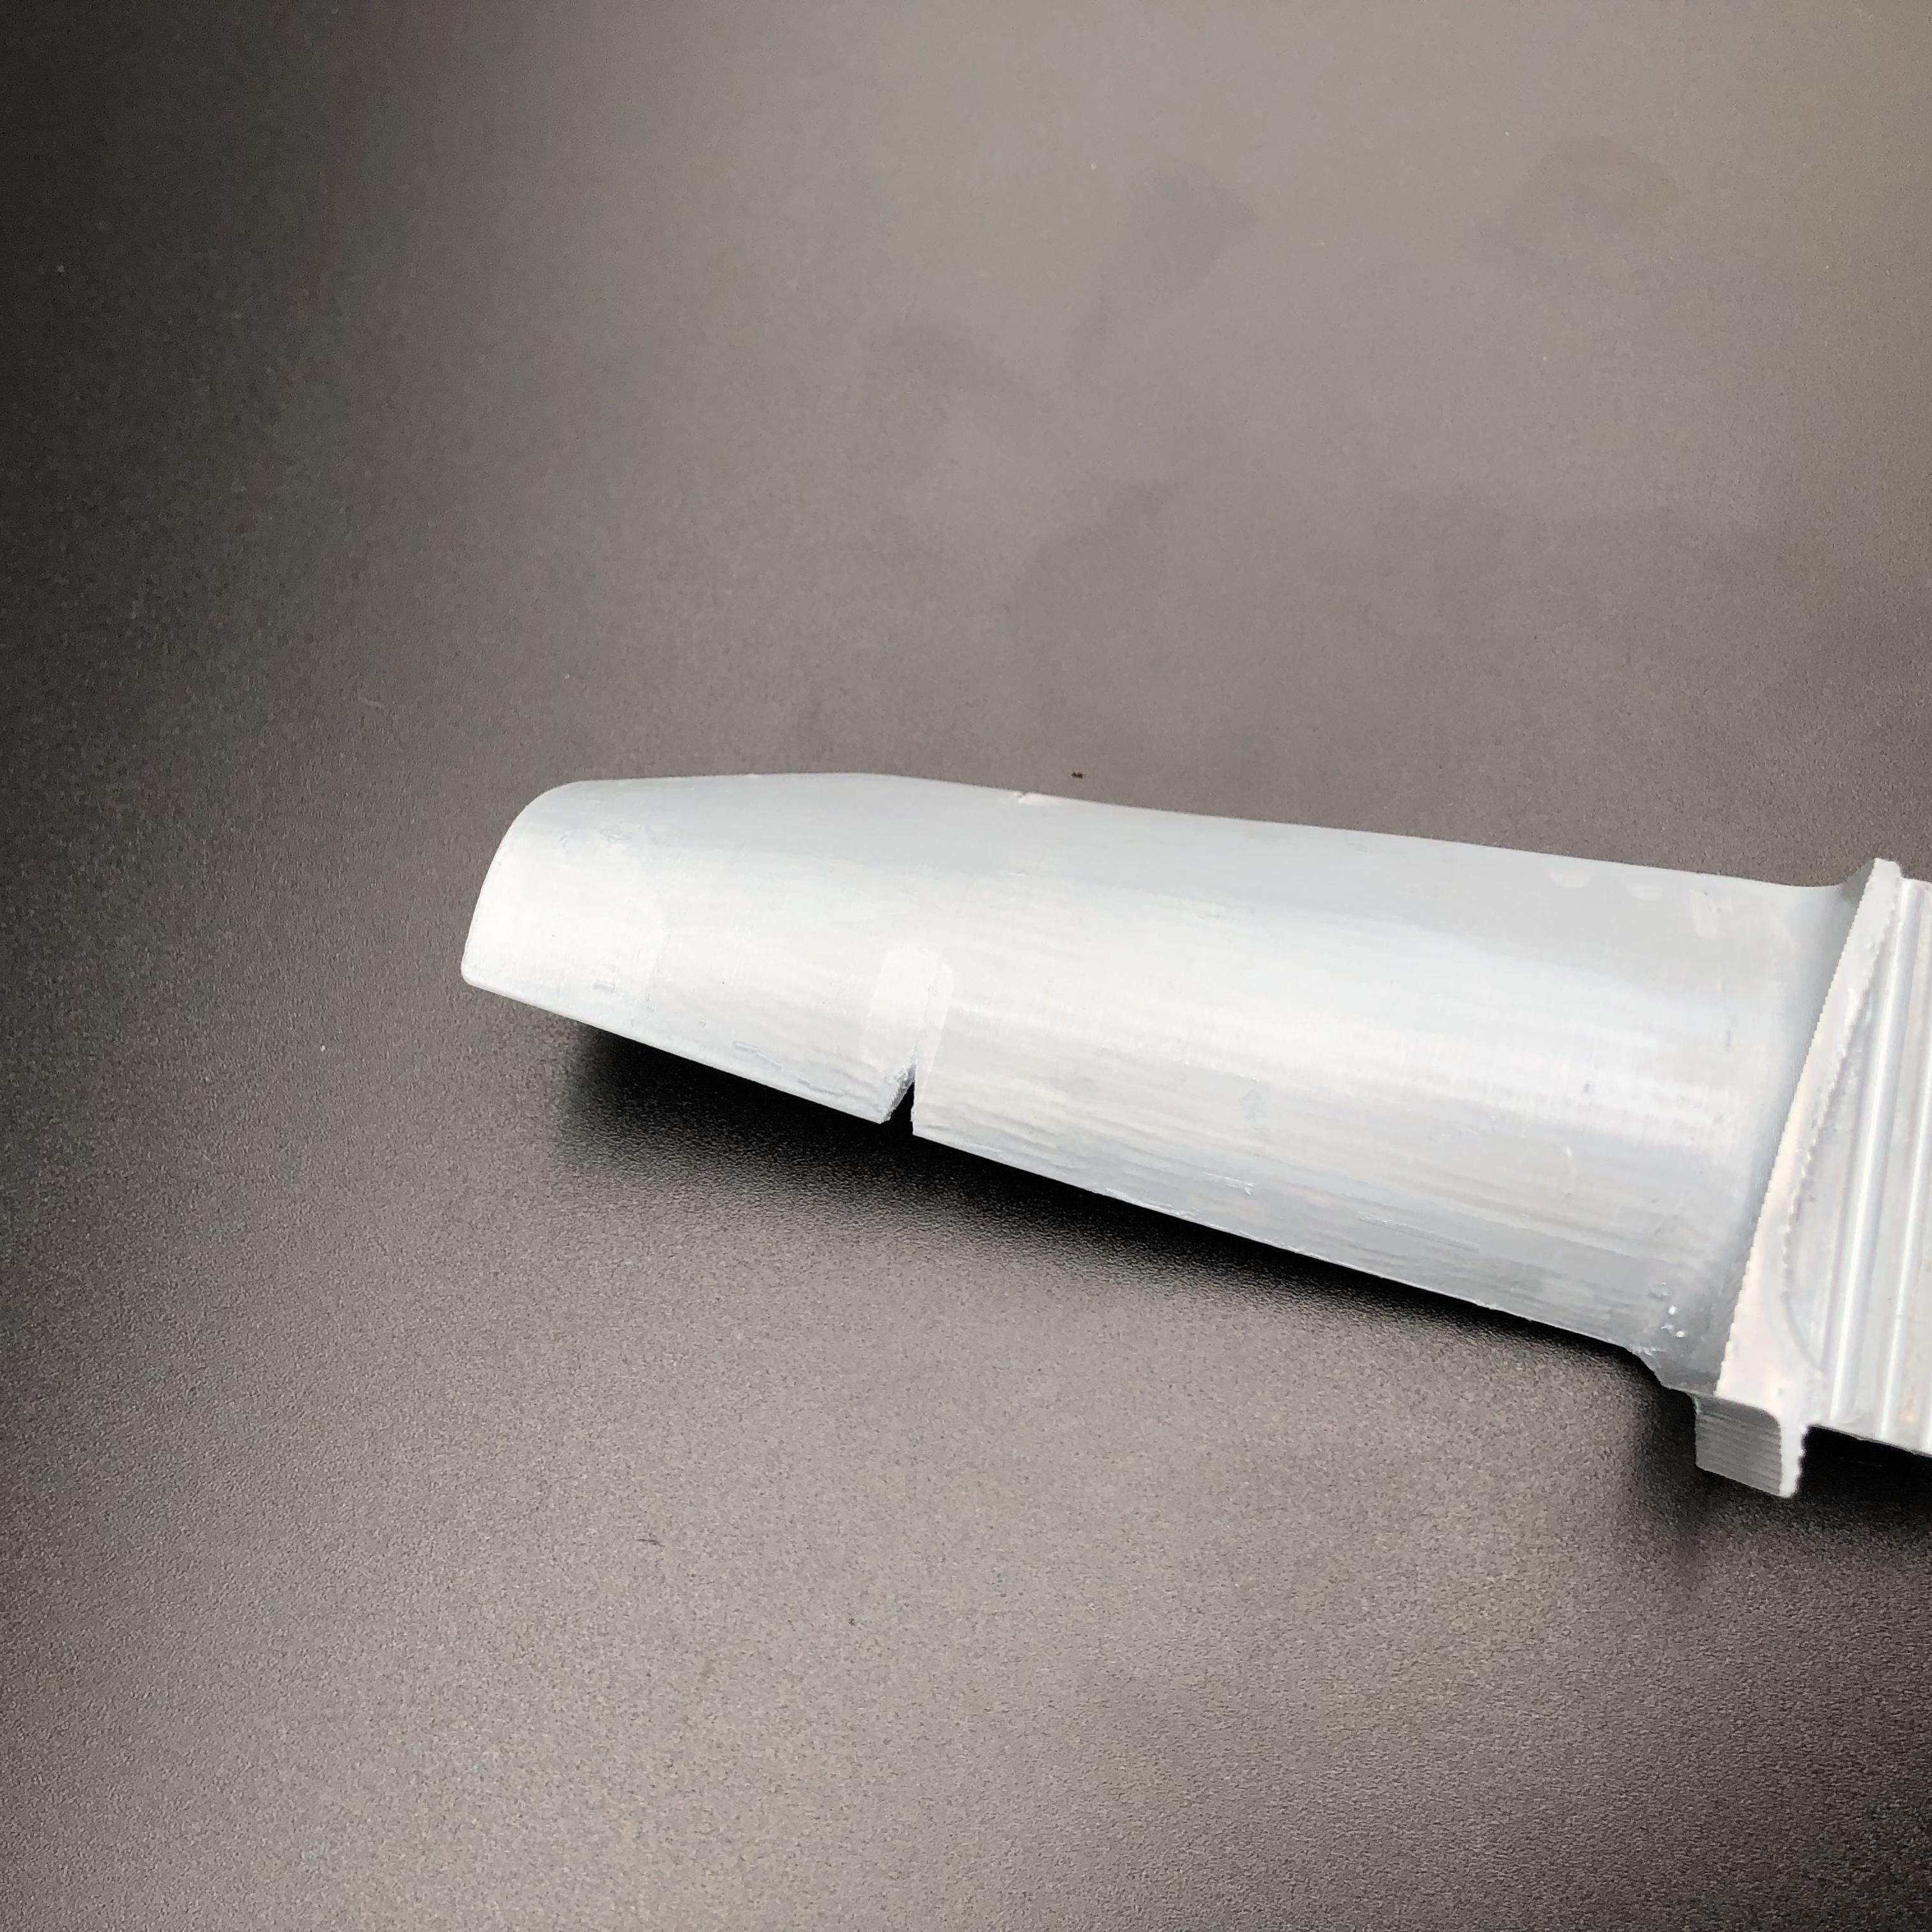groove: (881, 1065, 938, 1136)
